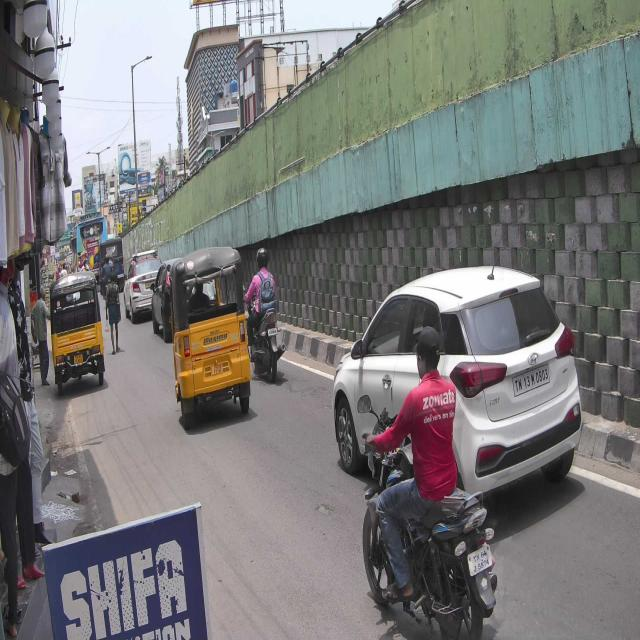single_rider: (357, 321, 500, 640)
